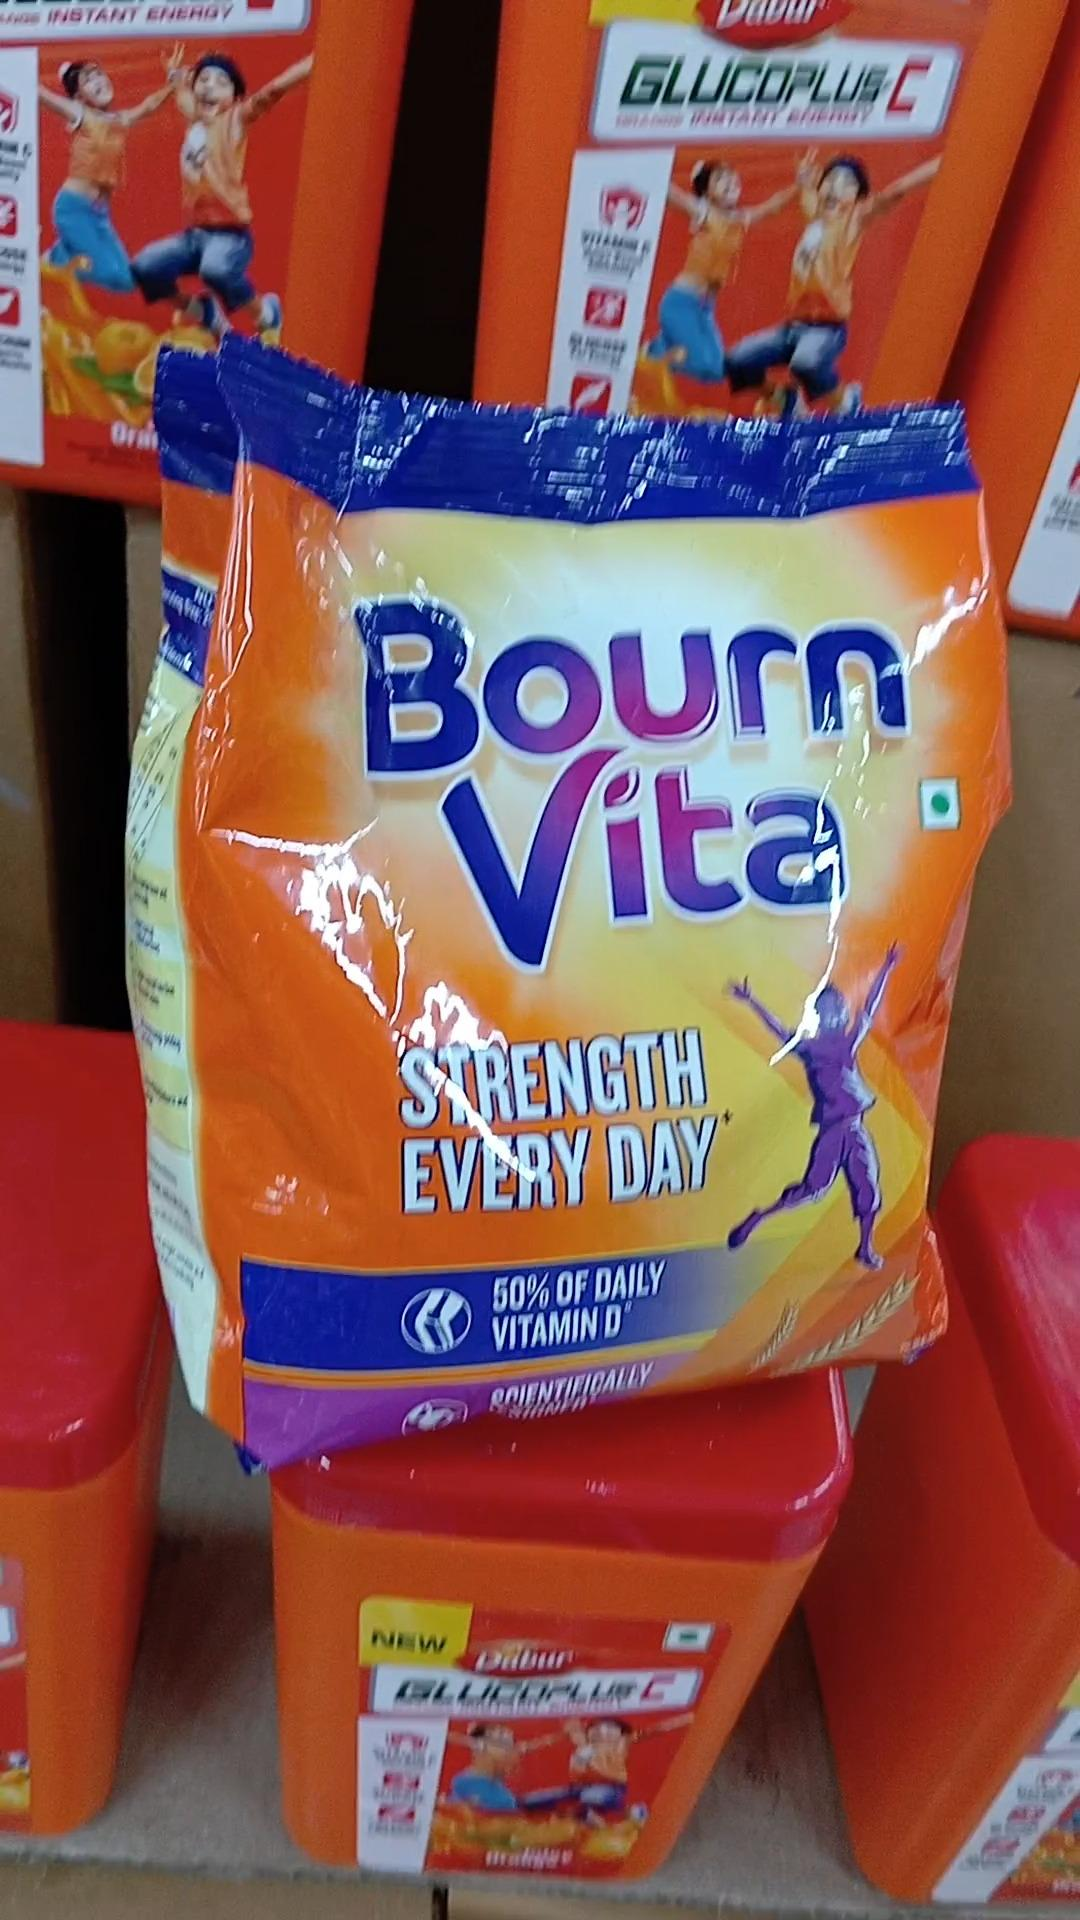BOURN_VITA_500_G_POUCH: (204, 330, 960, 1378)
